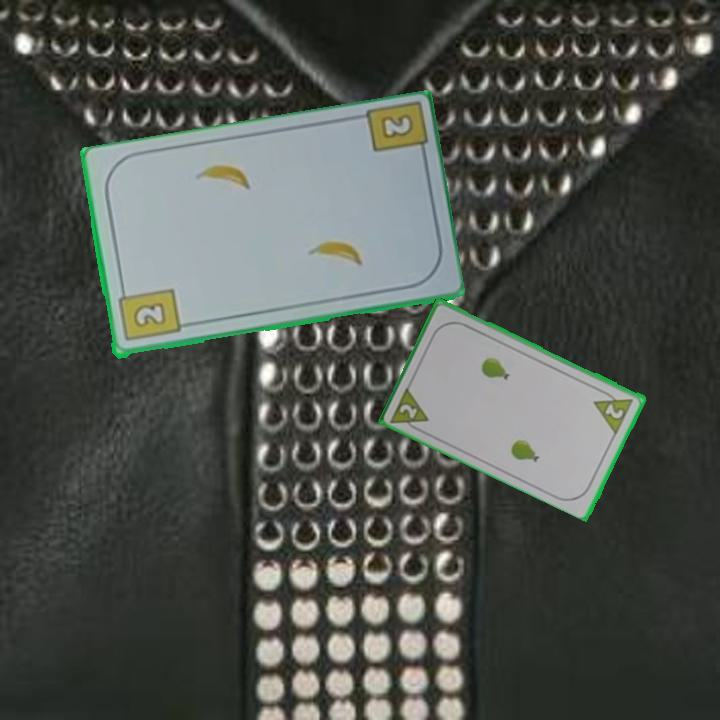2b: (115, 284, 182, 345), (376, 110, 416, 143)
2p: (387, 382, 432, 436), (590, 385, 637, 436)
